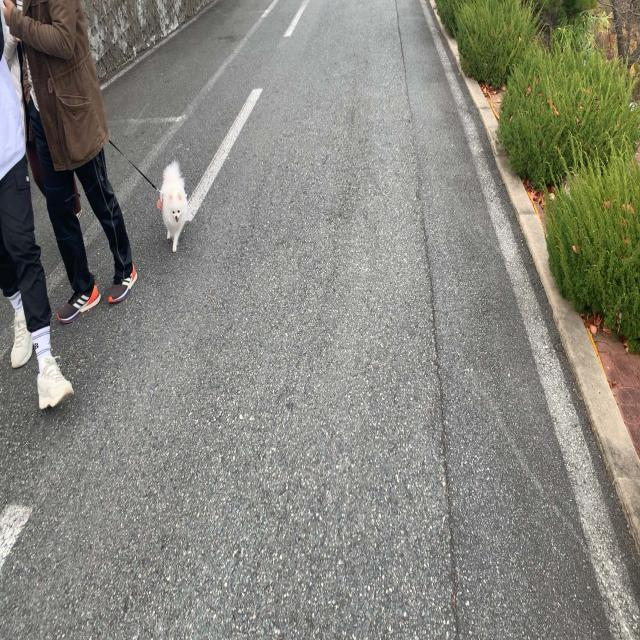Leashed_Dog: (72, 133, 189, 253)
